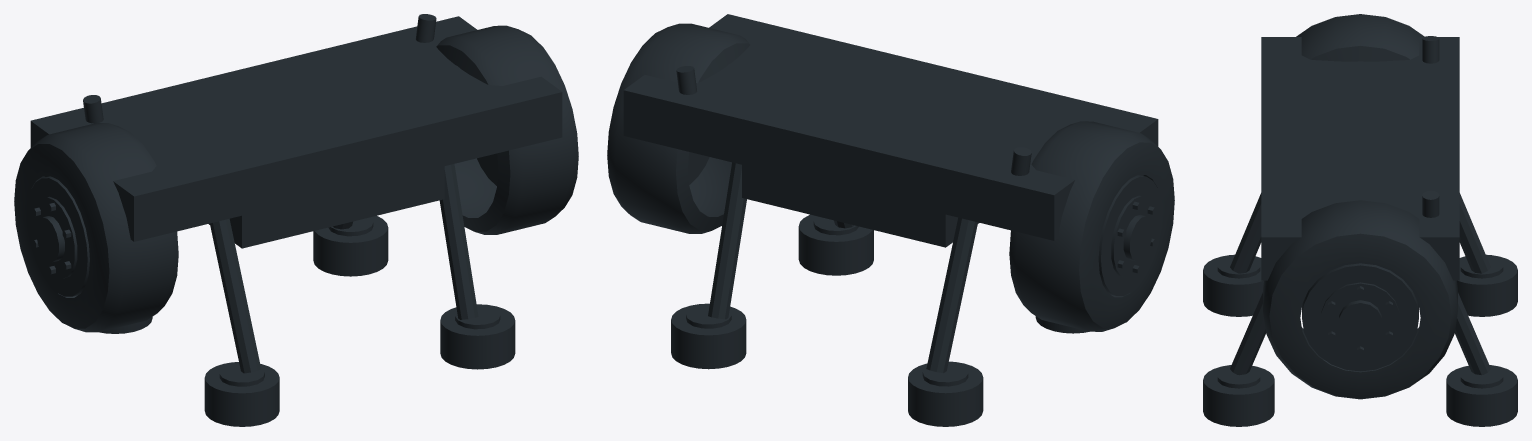
The model's file is rubber_bogie.obj.
3 views of the same model, side by side, from view 1: azimuth 30°, elevation 25°; view 2: azimuth 150°, elevation 25°; view 3: azimuth 270°, elevation 25° (orthographic). The views are drawn at different scales.
Parts seen in each view (by area): view 1: bogie; view 2: bogie; view 3: bogie.
Boxes of the visible parts, bbox=[...] form: bogie: bbox=[14, 14, 578, 426]; bogie: bbox=[607, 14, 1174, 426]; bogie: bbox=[1203, 14, 1517, 426].
Bounding box in the file's own units: 1.72 × 0.8316 × 0.984.
